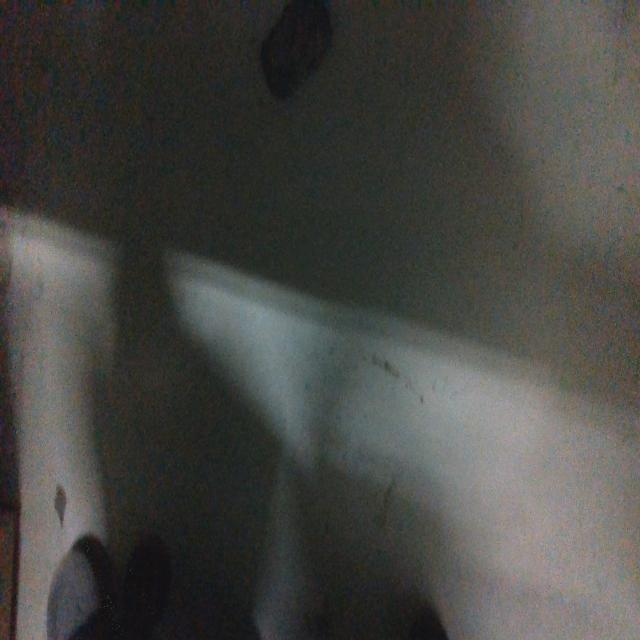stone: (260, 0, 333, 104)
